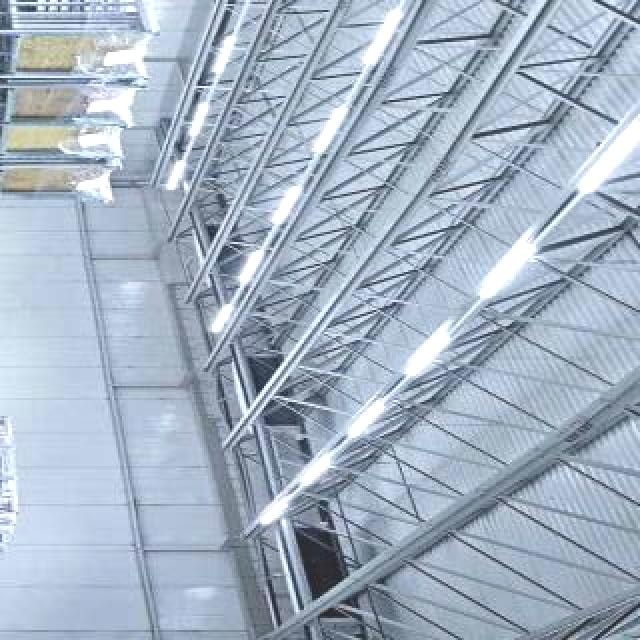fluorescent tube: (569, 100, 640, 202), (467, 229, 545, 309), (391, 328, 460, 388), (304, 98, 356, 166), (360, 0, 408, 70), (285, 449, 342, 495), (256, 182, 309, 229), (338, 395, 391, 440), (180, 96, 222, 140), (207, 29, 244, 78), (161, 154, 203, 194), (251, 492, 291, 532), (202, 296, 236, 342), (235, 247, 273, 284), (238, 0, 274, 10)
